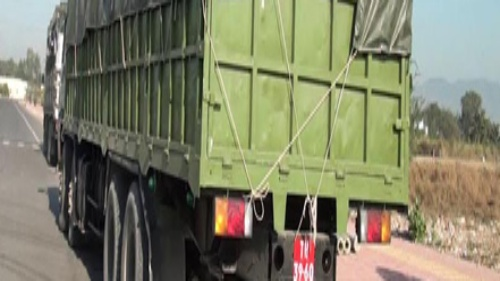plate: (292, 237, 318, 277)
